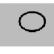no answer: (17, 9, 49, 35)
